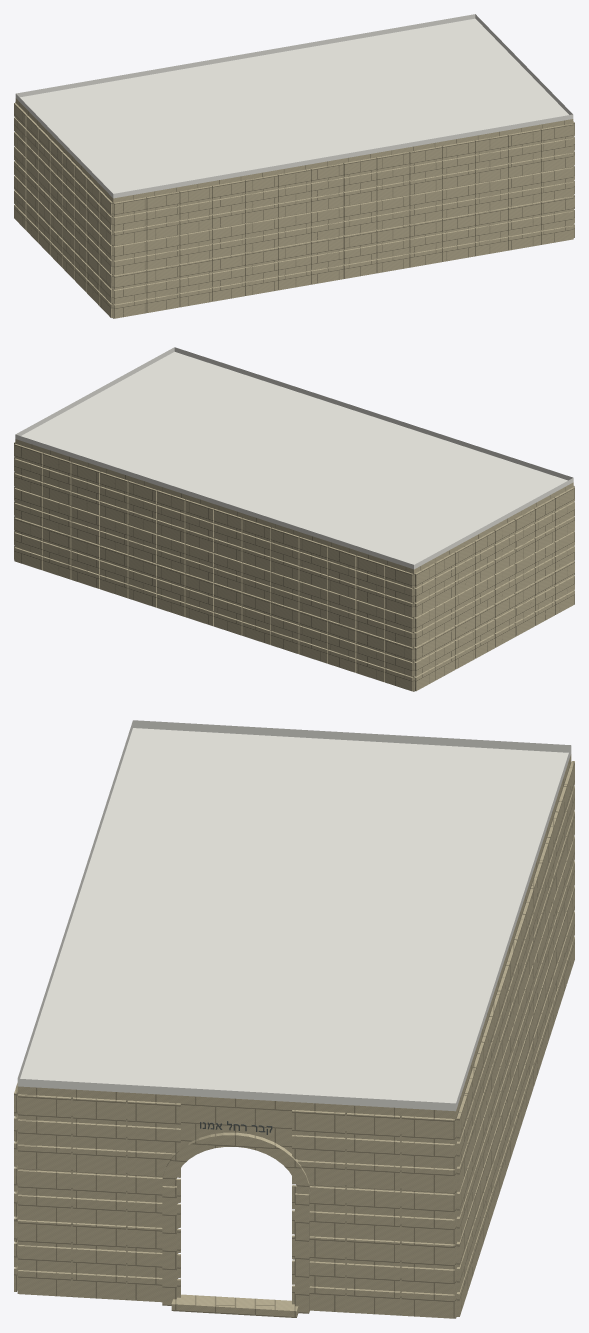
File: rachel-tomb-core-v148.glb
The picture shows the model from 3 angles, top to bottom: view 1: azimuth 30°, elevation 25°; view 2: azimuth 150°, elevation 25°; view 3: azimuth 270°, elevation 25°; orthographic projection. The views are drawn at different scales.
Visible parts, largest first — view 1: Rachel_Core_stone, Rachel_Core_white; view 2: Rachel_Core_stone, Rachel_Core_white; view 3: Rachel_Core_white, Rachel_Core_stone.
Boxes of the visible parts, x1,y1,x2,y2 form: Rachel_Core_stone: (14,98,574,318); Rachel_Core_white: (15,14,573,198); Rachel_Core_stone: (14,439,574,691); Rachel_Core_white: (15,347,573,569); Rachel_Core_white: (17,720,571,1111); Rachel_Core_stone: (14,754,574,1318).
Bounding box in the file's own units: 19.16 × 4.98 × 11.76.
Materials: 3 (1 with a texture image).
